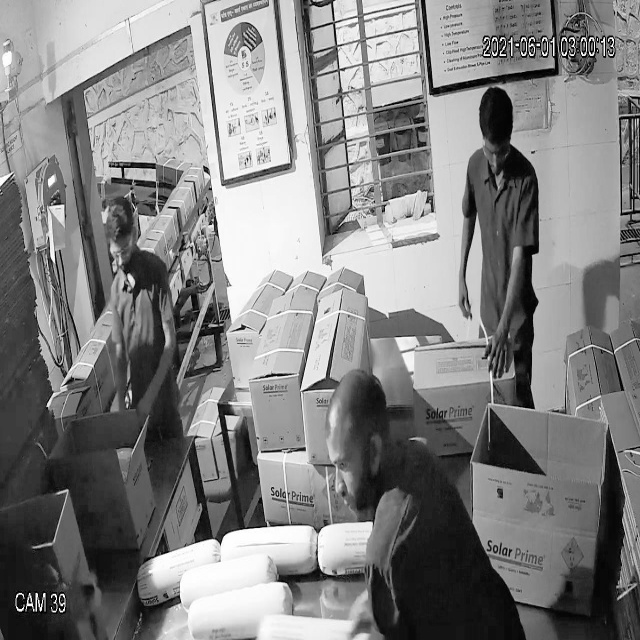Gafas: (104, 233, 139, 269)
